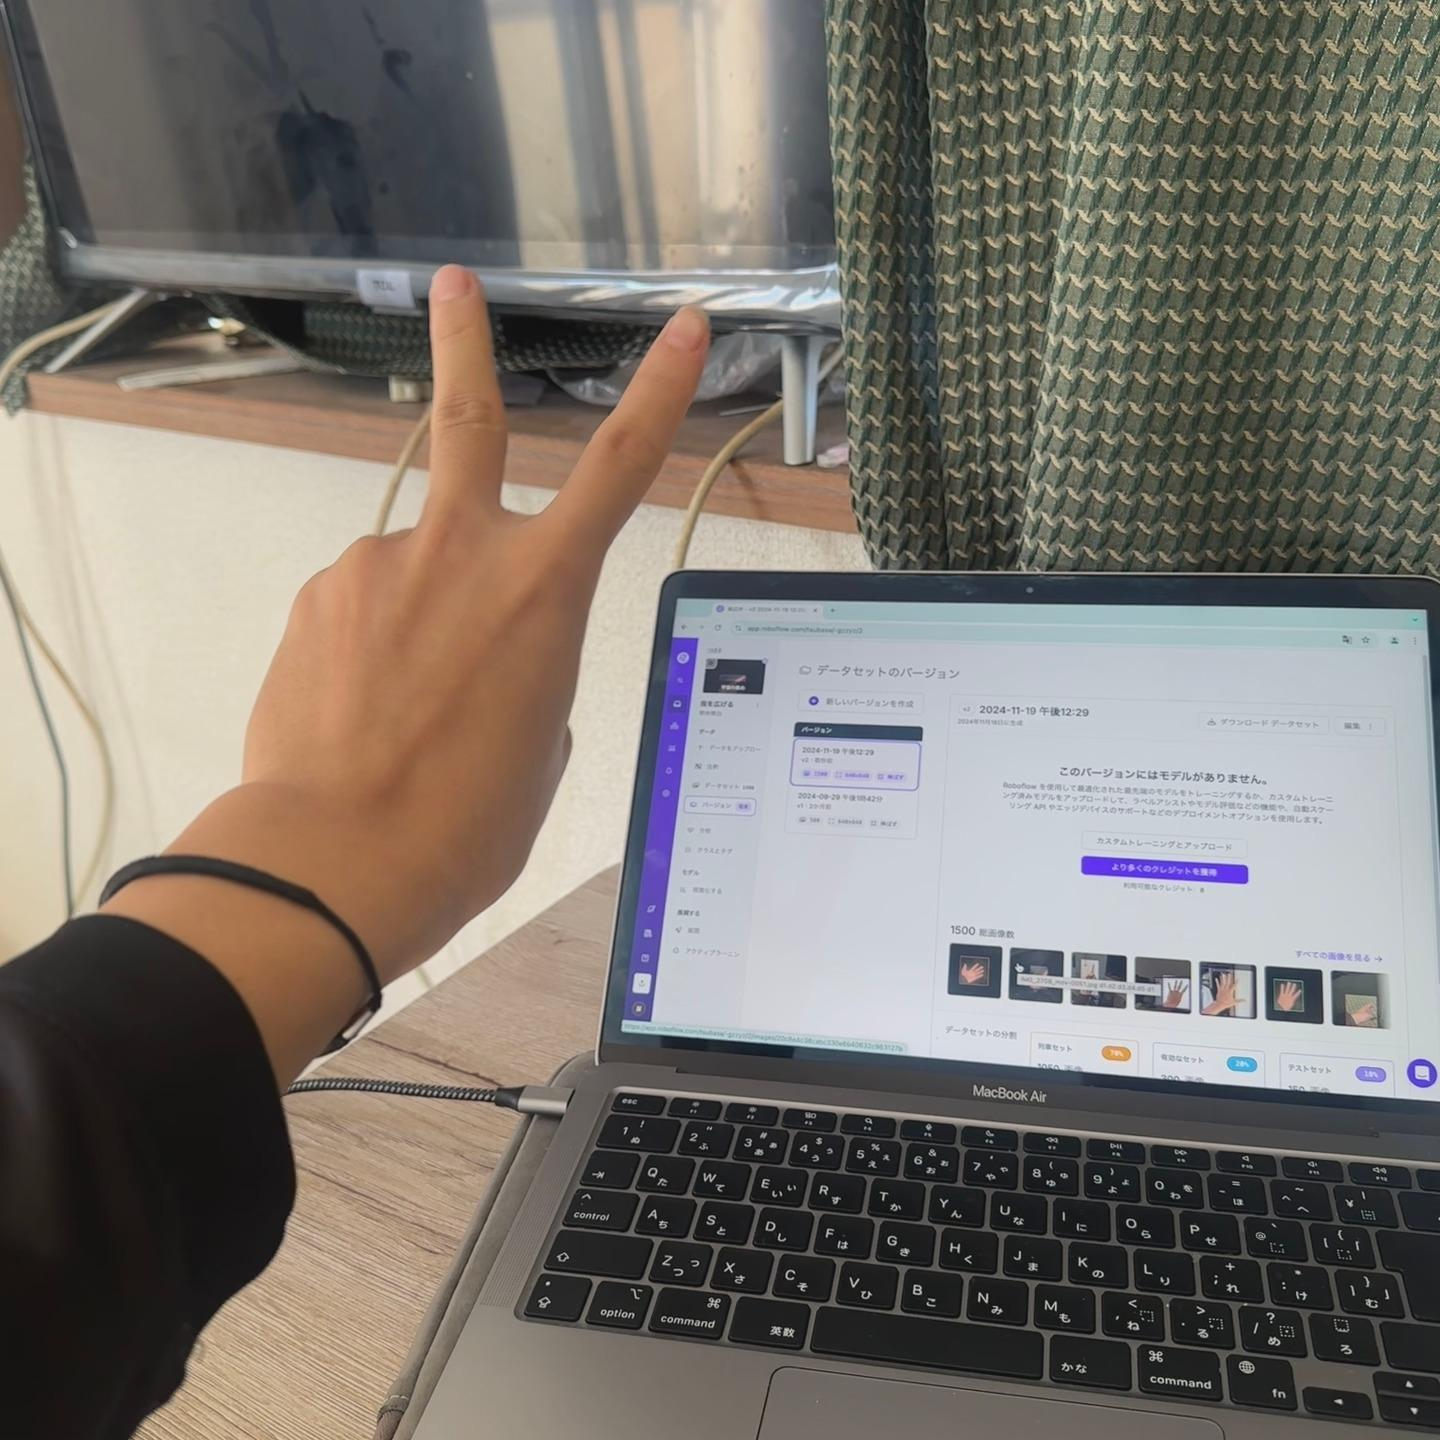without_gloves: (218, 148, 841, 907)
